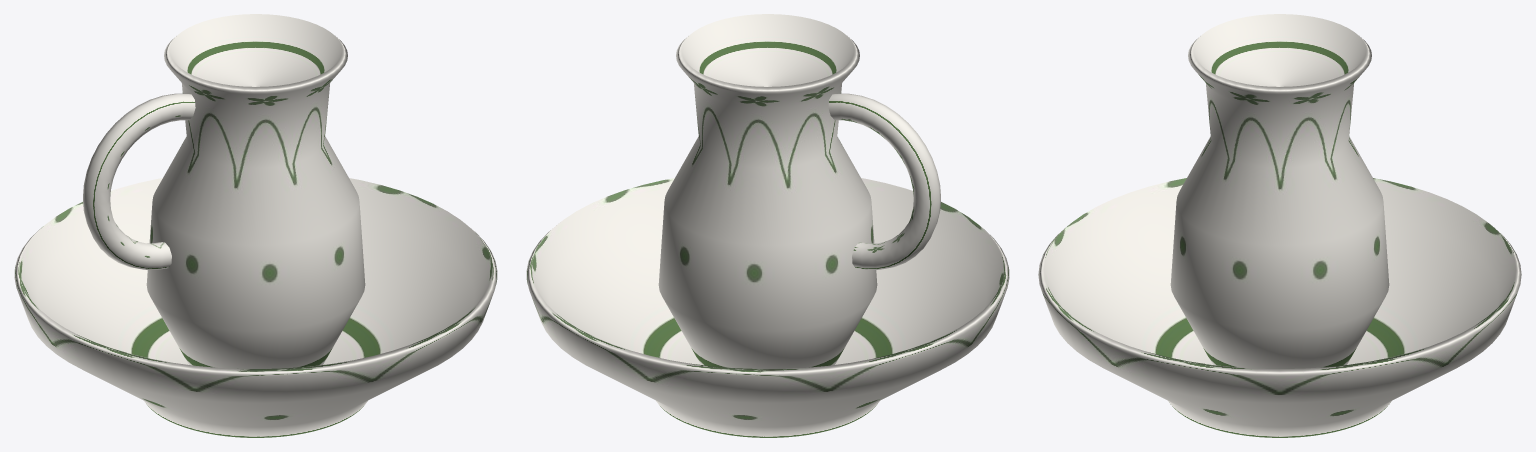
Rendered from jarro-bacia-porcelana.glb.
The picture shows the model from 3 angles, left to right: view 1: azimuth 30°, elevation 25°; view 2: azimuth 150°, elevation 25°; view 3: azimuth 270°, elevation 25°; orthographic projection.
Parts seen in each view (by area): view 1: jugBasin; view 2: jugBasin; view 3: jugBasin.
Part boxes in pixels (<box>): jugBasin: <box>14,14,497,437</box>; jugBasin: <box>526,14,1009,437</box>; jugBasin: <box>1038,14,1521,437</box>.
Size of the model in its own units: 0.42 by 0.325 by 0.42.
Materials: 1 (1 with a texture image).
